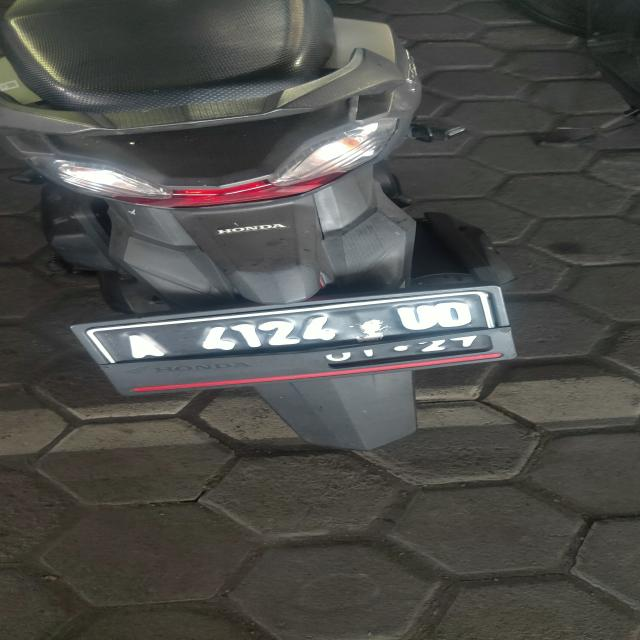License-Plate: (34, 281, 562, 397)
